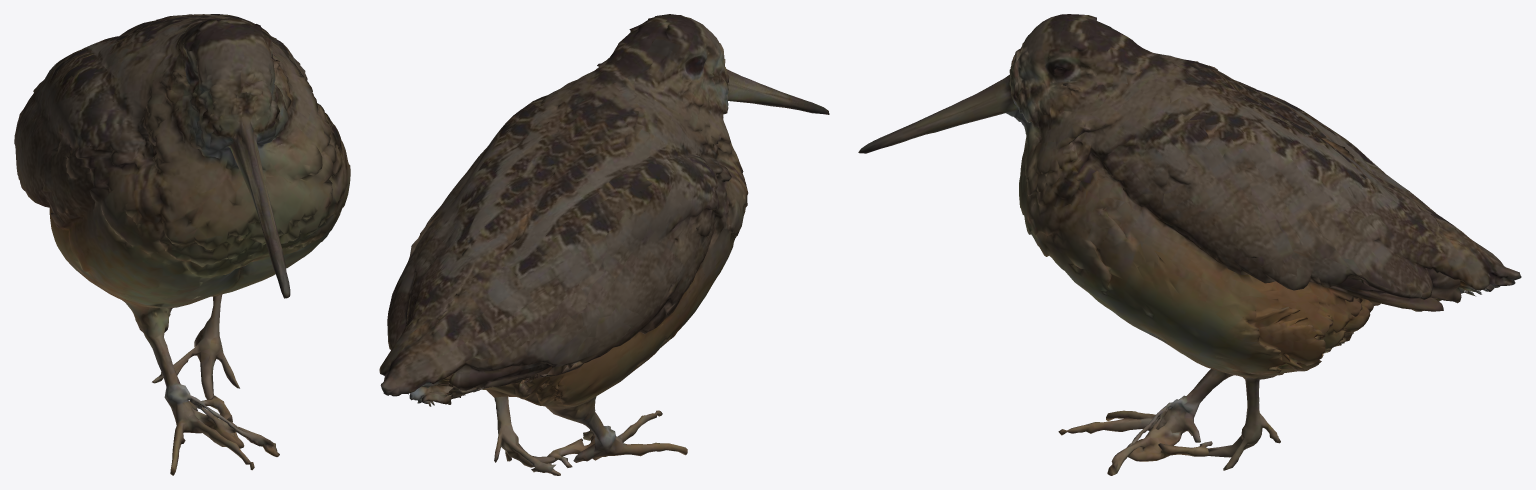
Rendered from woodcock.glb.
3 renders of one model, left to right at view 1: azimuth 30°, elevation 25°; view 2: azimuth 150°, elevation 25°; view 3: azimuth 270°, elevation 25°, orthographic. The views are drawn at different scales.
Parts seen in each view (by area): view 1: Woodcock; view 2: Woodcock; view 3: Woodcock.
Boxes of the visible parts, <box> form: Woodcock: <box>14,14,350,475</box>; Woodcock: <box>379,14,829,475</box>; Woodcock: <box>858,14,1521,475</box>.
Bounding box in the file's own units: 0.2083 × 0.3541 × 0.5.
Materials: 1 (1 with a texture image).
